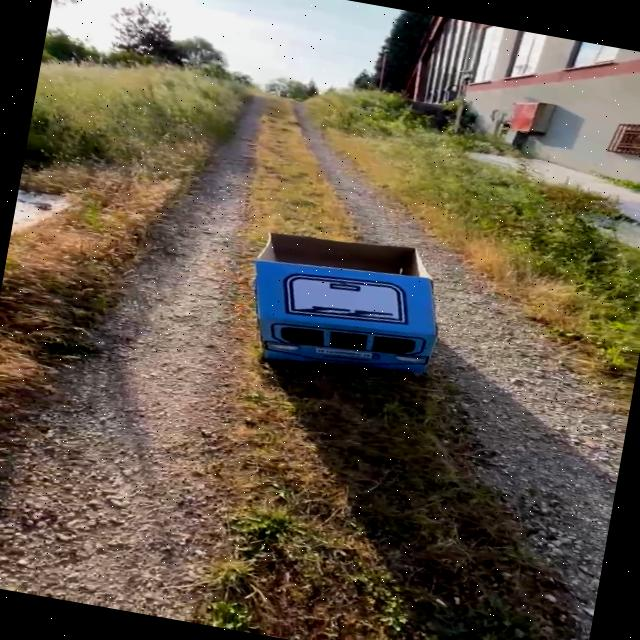blue_car: (211, 159, 505, 411)
